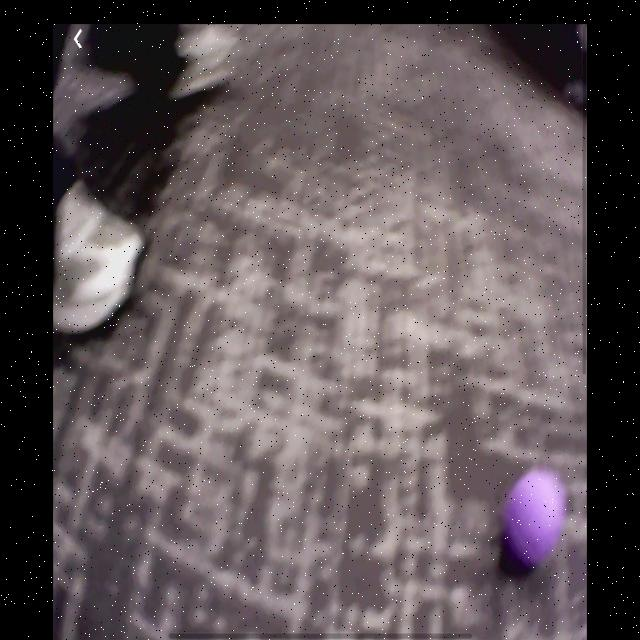ball: (506, 472, 565, 565)
